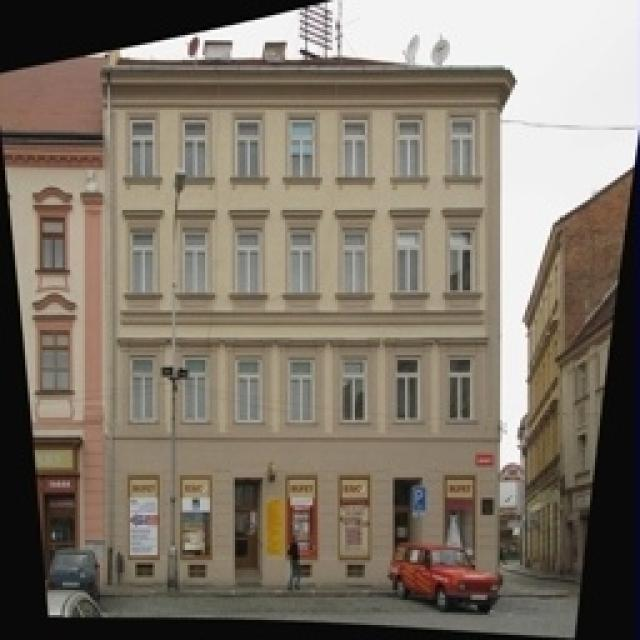building: (110, 28, 508, 608)
